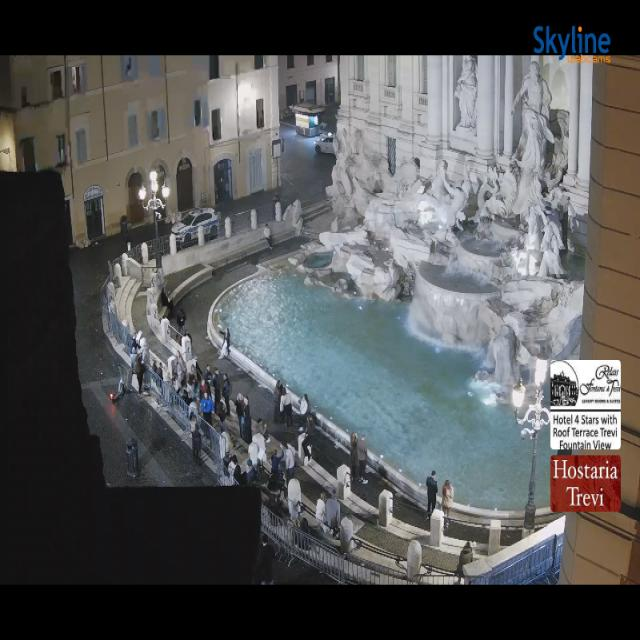person: (140, 349, 175, 387), (140, 345, 171, 379), (122, 330, 150, 367), (270, 463, 288, 517), (257, 452, 283, 488), (283, 479, 303, 525), (256, 535, 274, 584), (128, 331, 151, 364), (271, 477, 288, 519), (172, 378, 199, 404), (290, 515, 310, 550), (456, 542, 473, 583), (224, 455, 246, 485), (298, 517, 317, 550), (315, 492, 330, 533), (190, 416, 203, 463), (326, 490, 340, 532), (154, 363, 170, 399), (127, 339, 138, 390), (267, 473, 282, 510), (302, 415, 314, 461), (457, 542, 473, 575), (159, 368, 175, 401), (357, 433, 367, 484), (426, 471, 437, 517), (288, 496, 303, 528), (252, 431, 266, 465), (280, 389, 292, 428), (232, 393, 243, 435), (158, 371, 172, 404), (191, 418, 201, 464), (193, 380, 211, 405), (350, 432, 359, 482), (200, 395, 214, 427), (297, 518, 311, 550), (216, 173, 232, 201), (316, 492, 327, 532), (288, 499, 303, 528), (199, 420, 214, 449), (268, 472, 282, 503), (224, 453, 239, 481), (156, 359, 170, 389), (303, 416, 315, 451), (271, 444, 284, 476), (200, 392, 213, 424), (242, 397, 251, 443), (442, 480, 453, 517), (121, 217, 132, 254), (176, 353, 189, 384), (124, 330, 143, 351), (299, 395, 310, 431), (273, 380, 282, 424), (136, 351, 145, 394), (255, 443, 266, 478), (271, 444, 283, 476), (124, 330, 142, 351), (247, 457, 262, 482), (350, 431, 358, 476), (222, 375, 231, 415), (120, 216, 130, 252), (121, 216, 131, 252), (244, 397, 252, 441), (192, 358, 203, 390), (177, 382, 193, 404), (316, 491, 327, 523), (161, 288, 174, 315), (285, 446, 295, 481), (176, 352, 188, 381), (212, 368, 220, 410), (230, 456, 242, 484), (192, 380, 203, 410), (235, 393, 243, 434), (140, 345, 152, 372), (257, 419, 270, 443), (220, 431, 231, 459), (193, 358, 203, 388), (220, 330, 230, 359), (177, 355, 186, 387), (188, 365, 197, 397), (168, 360, 179, 385), (171, 375, 184, 396), (302, 432, 311, 462), (176, 358, 186, 385), (256, 418, 267, 442), (178, 355, 187, 384), (195, 359, 204, 387), (177, 307, 186, 335), (221, 373, 231, 398), (215, 177, 225, 202), (210, 368, 221, 390), (169, 368, 179, 392), (300, 395, 310, 419), (247, 458, 256, 484), (155, 363, 163, 392), (200, 380, 211, 401), (220, 398, 230, 421), (216, 399, 226, 422), (196, 362, 206, 385), (234, 392, 243, 417), (226, 456, 237, 476), (305, 415, 315, 437), (188, 398, 198, 419), (272, 193, 281, 216), (264, 224, 272, 249), (204, 365, 213, 387), (200, 378, 211, 396), (179, 388, 190, 405), (155, 362, 163, 385), (219, 340, 228, 359), (237, 470, 247, 487), (275, 380, 283, 401), (196, 359, 203, 382), (290, 513, 300, 529), (224, 455, 232, 475), (135, 330, 143, 350), (300, 518, 310, 534), (157, 362, 166, 379), (172, 375, 180, 394), (191, 353, 199, 371), (131, 336, 140, 352), (189, 416, 197, 433), (187, 385, 194, 404), (185, 386, 192, 405), (132, 336, 140, 351), (275, 380, 282, 397), (190, 353, 197, 370), (185, 331, 193, 345), (220, 416, 227, 432), (184, 370, 190, 387), (225, 329, 230, 349), (556, 449, 572, 455), (220, 420, 227, 432), (280, 385, 286, 399), (152, 360, 157, 375), (280, 384, 286, 396)
